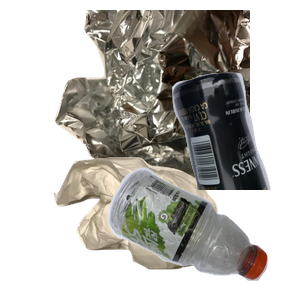glass: (106, 70, 300, 250)
metal: (52, 10, 292, 190)
plastic: (105, 165, 300, 300)
trash: (51, 155, 261, 300)
